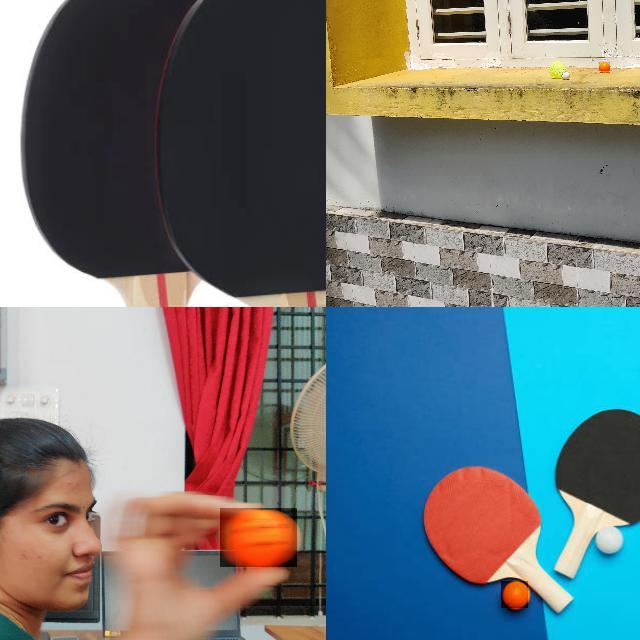ping-pong-ball: (220, 508, 298, 568), (501, 581, 529, 609), (599, 62, 611, 72)
